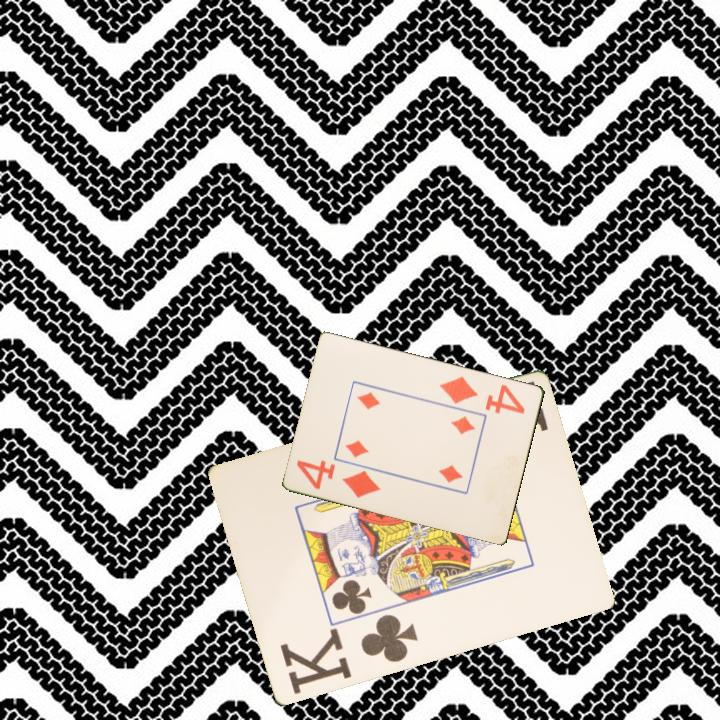4d: (436, 372, 528, 417), (293, 456, 384, 501)
Kc: (276, 611, 421, 698)
